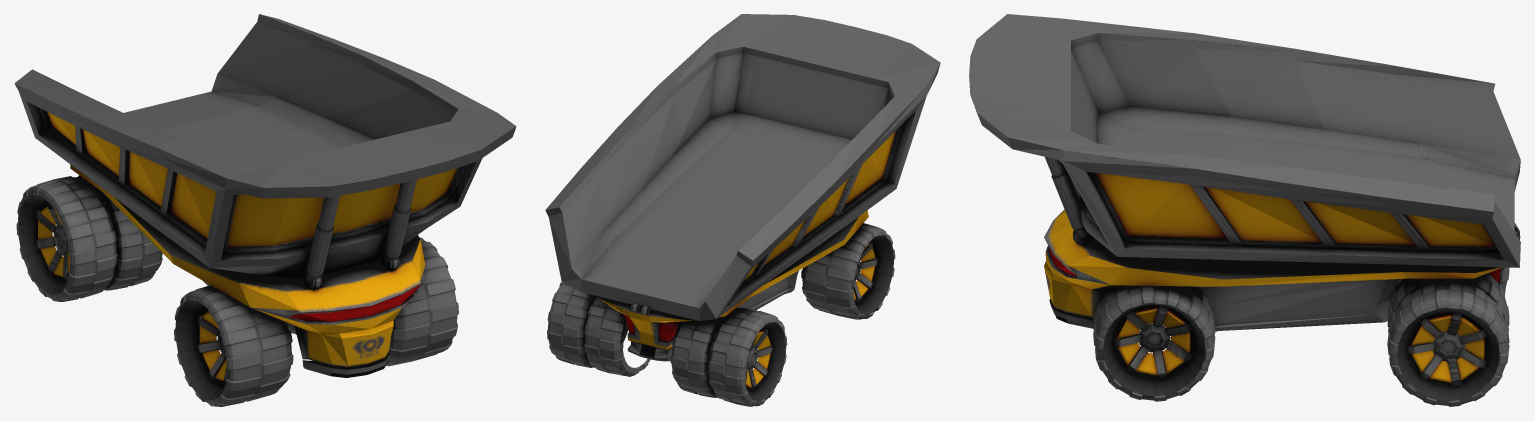
File: TOLVA.gltf
The picture shows the model from 3 angles, left to right: view 1: azimuth 30°, elevation 25°; view 2: azimuth 150°, elevation 25°; view 3: azimuth 270°, elevation 25°; orthographic projection. The views are drawn at different scales.
Parts seen in each view (by area): view 1: CARROCERIA, RUEDA.1, RUEDA.2; view 2: CARROCERIA, RUEDA.2, RUEDA.1; view 3: CARROCERIA, RUEDA.2, RUEDA.1.
Boxes of the visible parts, x1,y1,x2,y2 form: CARROCERIA: (14, 14, 516, 377); RUEDA.1: (174, 237, 458, 406); RUEDA.2: (16, 175, 162, 301); CARROCERIA: (545, 14, 940, 361); RUEDA.2: (547, 281, 787, 406); RUEDA.1: (801, 223, 895, 319); CARROCERIA: (969, 14, 1520, 331); RUEDA.2: (1387, 267, 1509, 406); RUEDA.1: (1093, 285, 1215, 401).
Size of the model in its own units: 516 by 485 by 886.
1 material, 1 textured.
